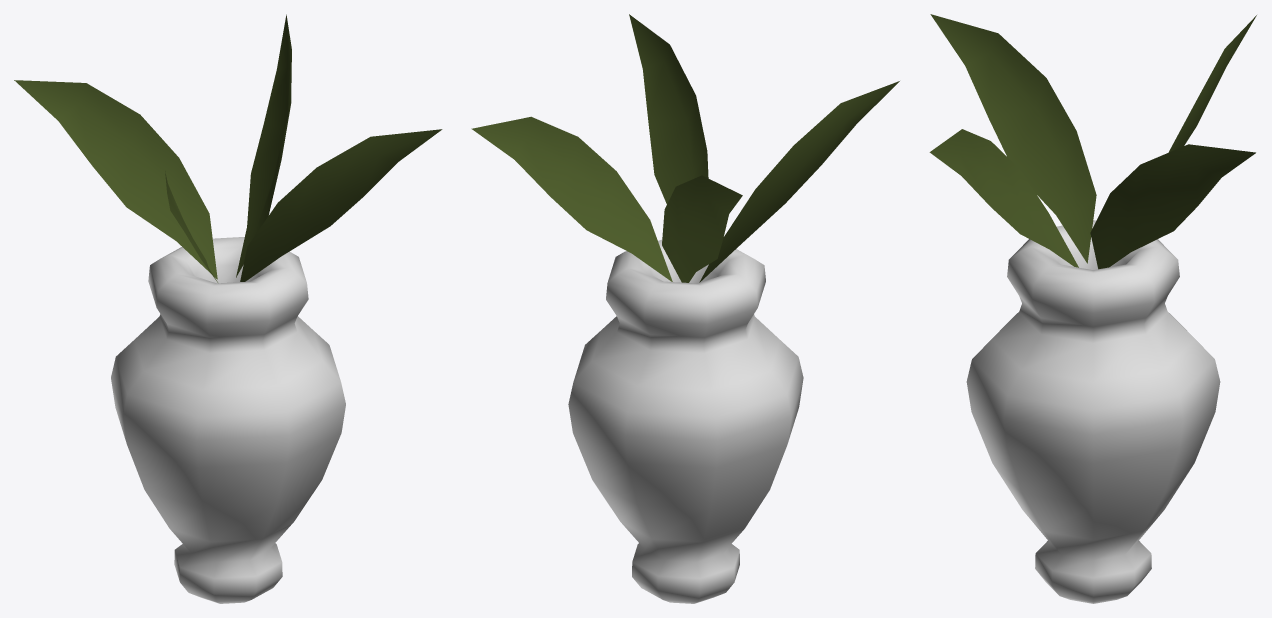
Rendered from PlantVase.fbx.
3 renders of one model, left to right at view 1: azimuth 30°, elevation 25°; view 2: azimuth 150°, elevation 25°; view 3: azimuth 270°, elevation 25°, orthographic. The views are drawn at different scales.
Visible parts, largest first — view 1: Pot, Plant; view 2: Pot, Plant; view 3: Pot, Plant.
Part boxes in pixels (left/top/right/bottom): Pot: left=111, top=237, right=345, bottom=603; Plant: left=14, top=14, right=442, bottom=282; Pot: left=568, top=239, right=803, bottom=603; Plant: left=471, top=14, right=899, bottom=282; Pot: left=966, top=220, right=1220, bottom=603; Plant: left=929, top=14, right=1256, bottom=269.
Size of the model in its own units: 0.7971 by 1.36 by 0.7971.
